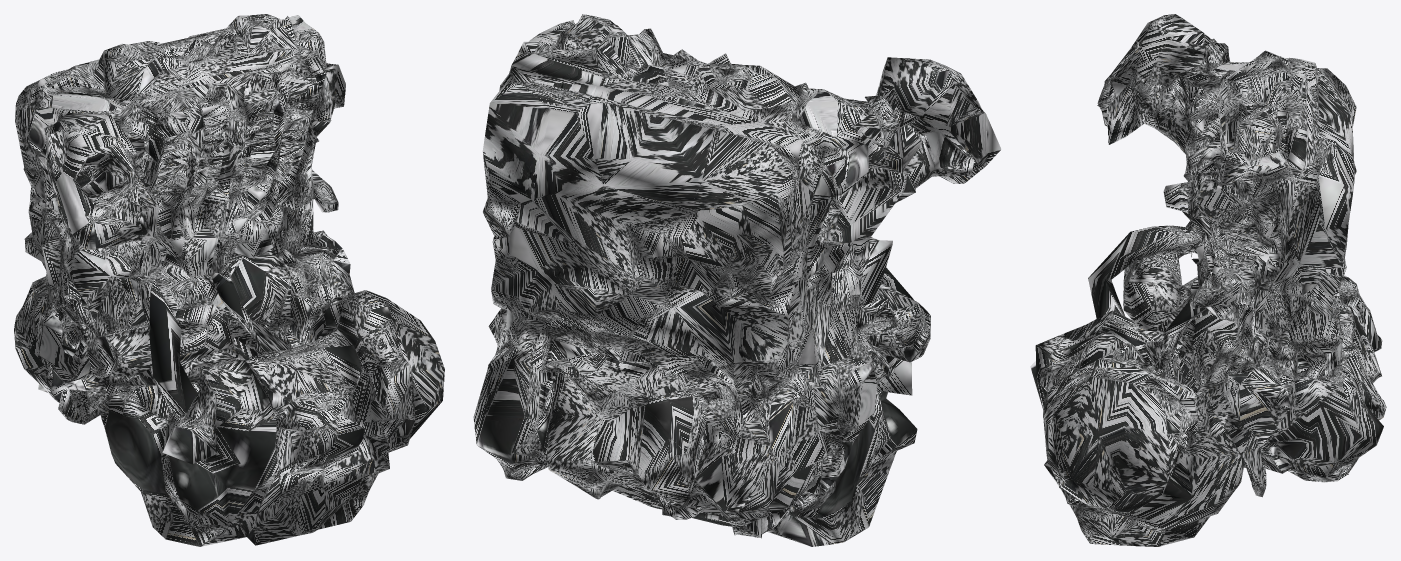
File: mesin-bensin-far.glb
3 views of the same model, side by side, from view 1: azimuth 30°, elevation 25°; view 2: azimuth 150°, elevation 25°; view 3: azimuth 270°, elevation 25° (orthographic). The views are drawn at different scales.
Size of the model in its own units: 1.61 by 1.89 by 1.41.
1 material, 1 textured.
